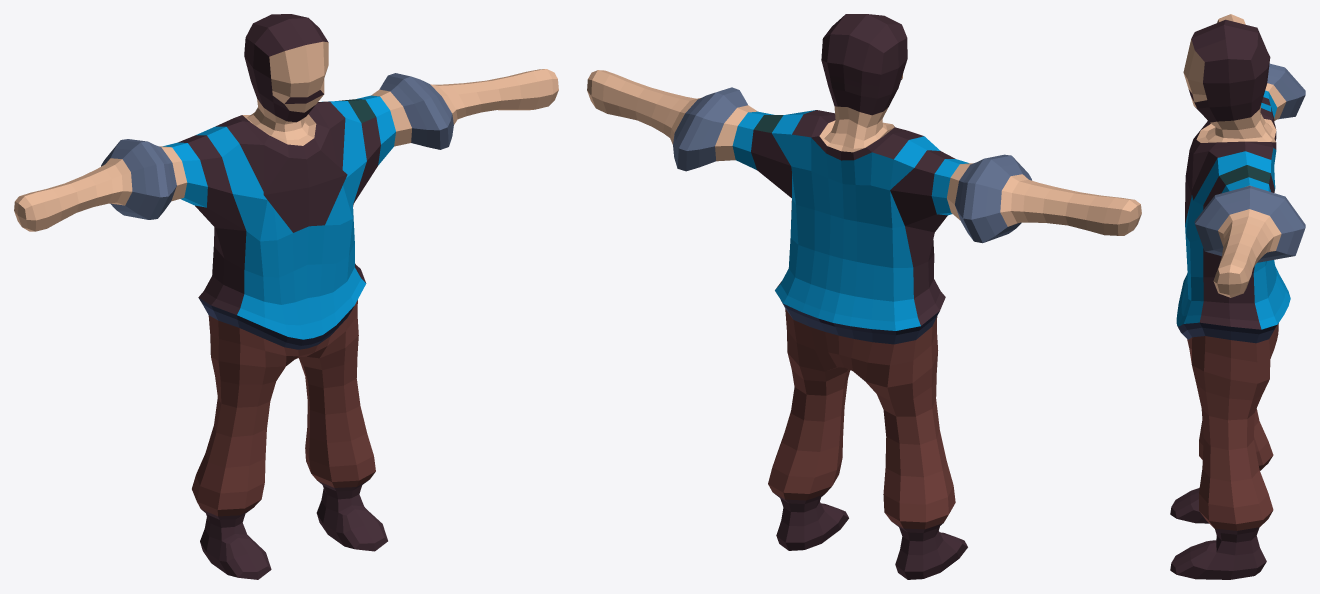
Rendered from Facundo-Valenzuela_MartinFierro 2.fbx.
3 views of the same model, side by side, from view 1: azimuth 30°, elevation 25°; view 2: azimuth 150°, elevation 25°; view 3: azimuth 270°, elevation 25° (orthographic). The views are drawn at different scales.
Parts seen in each view (by area): view 1: Cube; view 2: Cube; view 3: Cube.
Boxes of the visible parts, bbox=[...] form: Cube: bbox=[14, 14, 558, 579]; Cube: bbox=[587, 14, 1141, 579]; Cube: bbox=[1170, 14, 1305, 579].
Bounding box in the file's own units: 180 × 170 × 40.
Materials: 1 (1 with a texture image).
